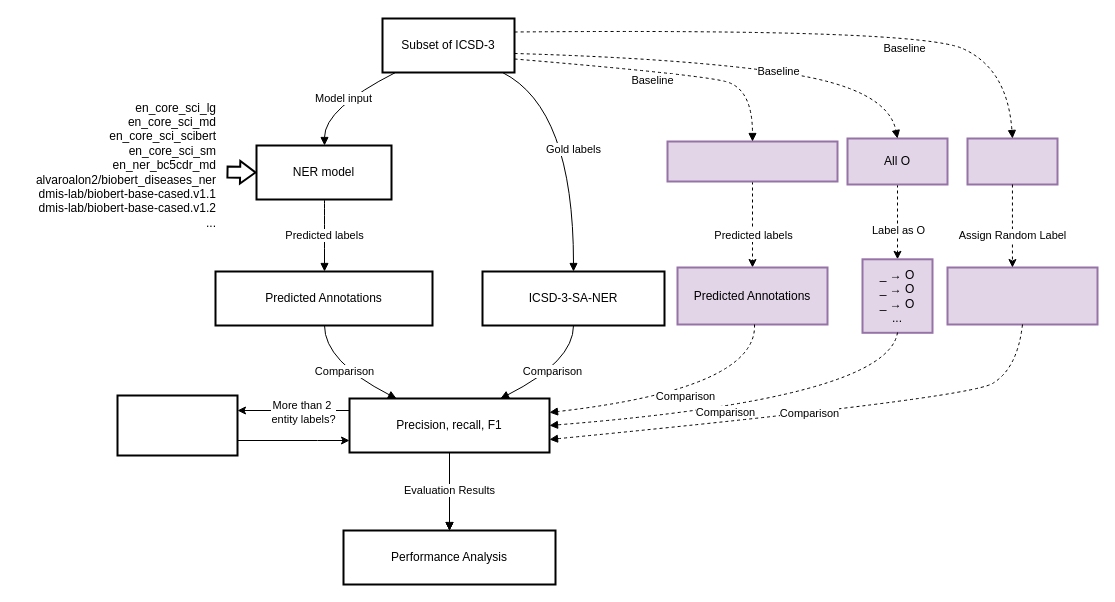
Some shapes in this 1115 by 602 pixel diagram are drawn without their labels. The centre of each missing label's shape, as x and y in pixels:
google-bert/bert-base-cased: the point at 752,161
Micro-, Macro-, Weighted Average: the point at 177,425
Random: the point at 1012,161
Random Annotations: the point at 1022,295
